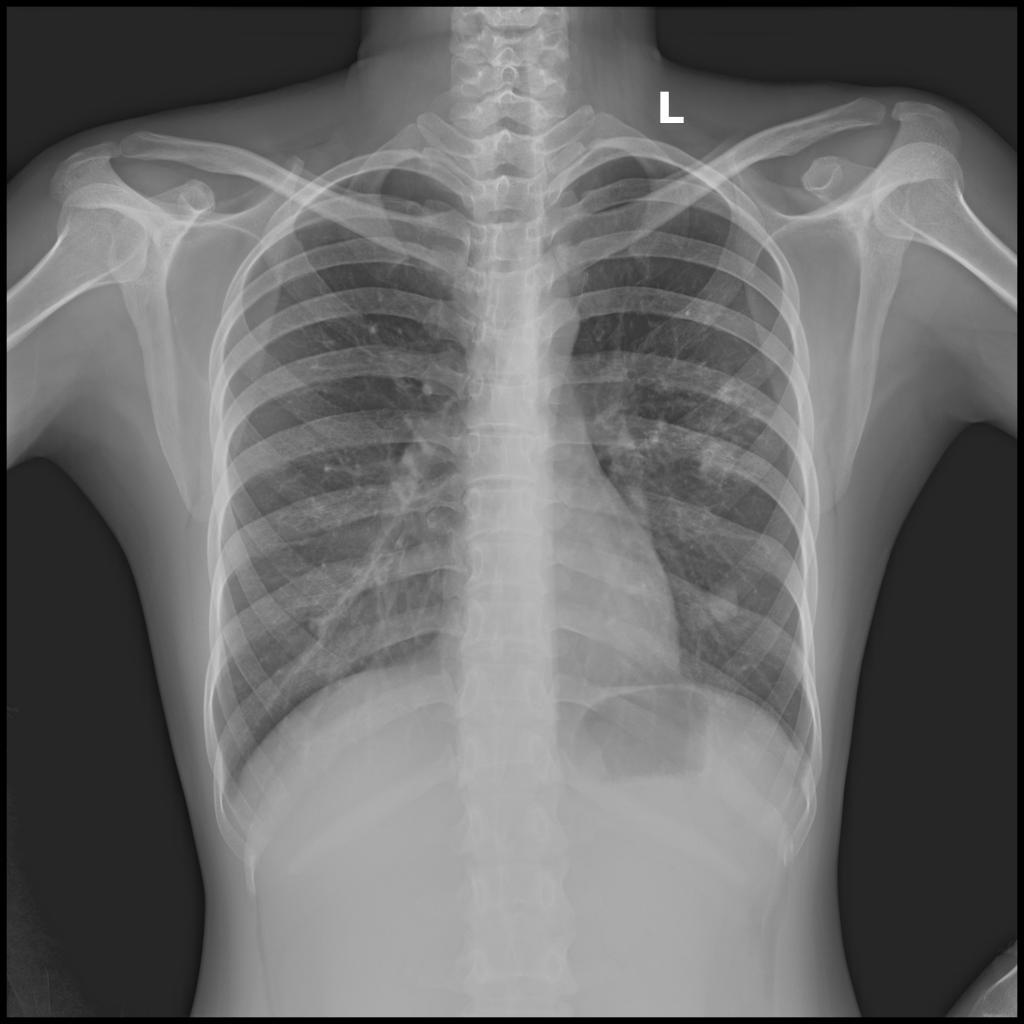Nodule: (699, 376, 765, 488), (708, 582, 738, 619)
